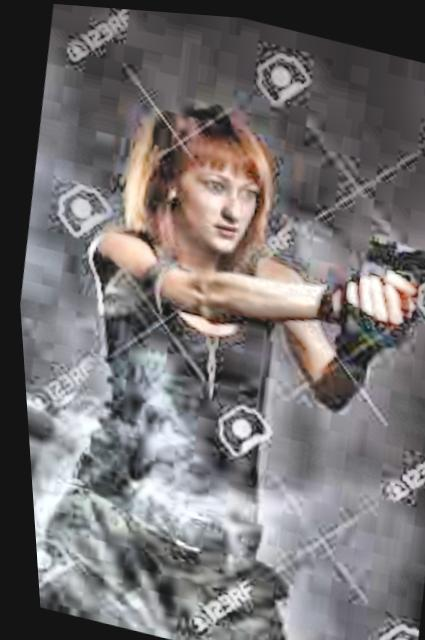pistol: (354, 212, 425, 289)
